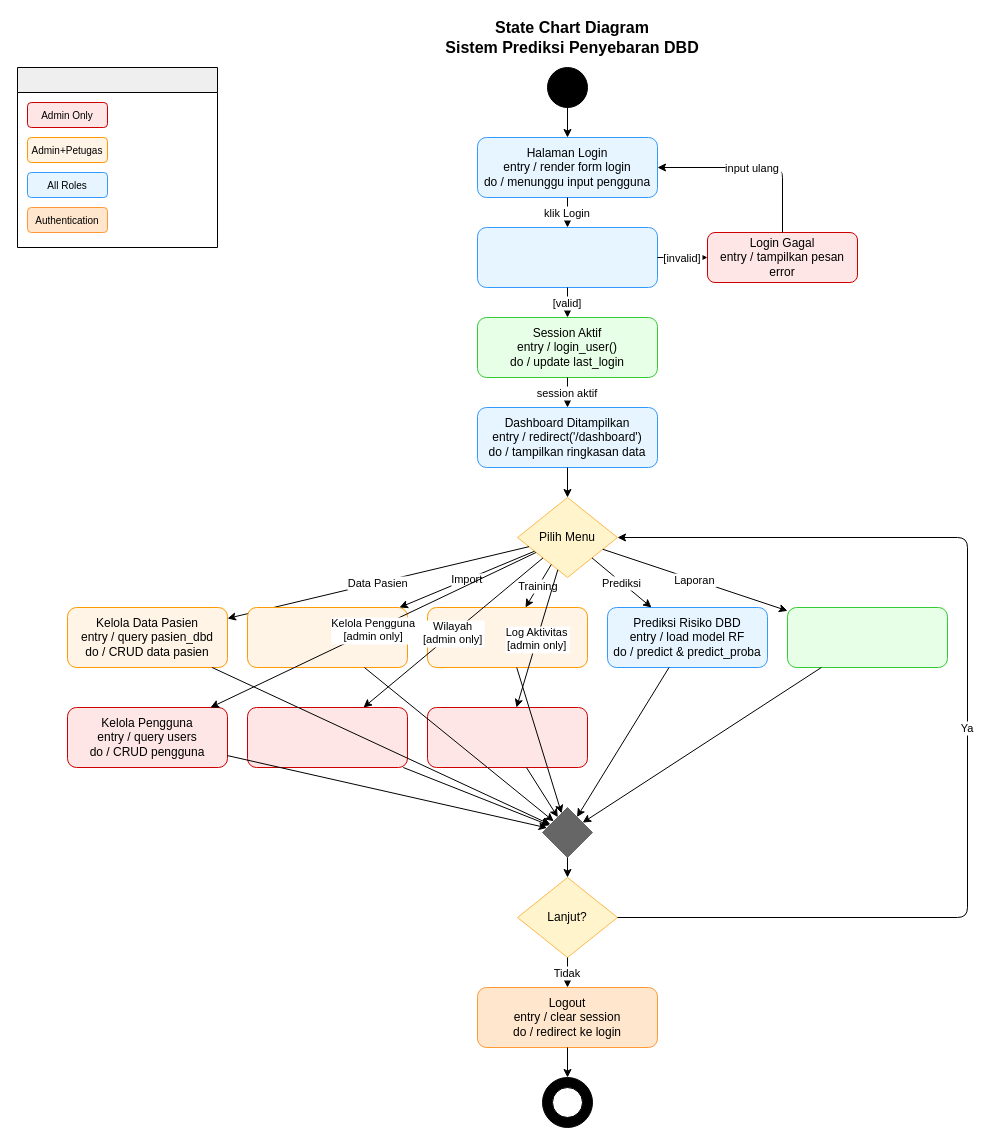
This 993x1145 diagram has some shape labels left out. Here are the shapes that lost their labels. From the top down, the box of each, then its label:
(16, 66, 218, 248): LEGEND
(476, 226, 658, 288): Memvalidasi Kredensial entry / kirim data ke server do / query user di database
(246, 606, 408, 668): Import Data Excel entry / form upload do / pd.read_excel()
(426, 606, 588, 668): Training Model RF entry / load data do / train RandomForest
(786, 606, 948, 668): Lihat Laporan entry / query statistik do / tampilkan grafik & tabel
(246, 706, 408, 768): Kelola Wilayah entry / query wilayah do / CRUD wilayah
(426, 706, 588, 768): Log Aktivitas entry / query log_aktivitas do / tampilkan log
